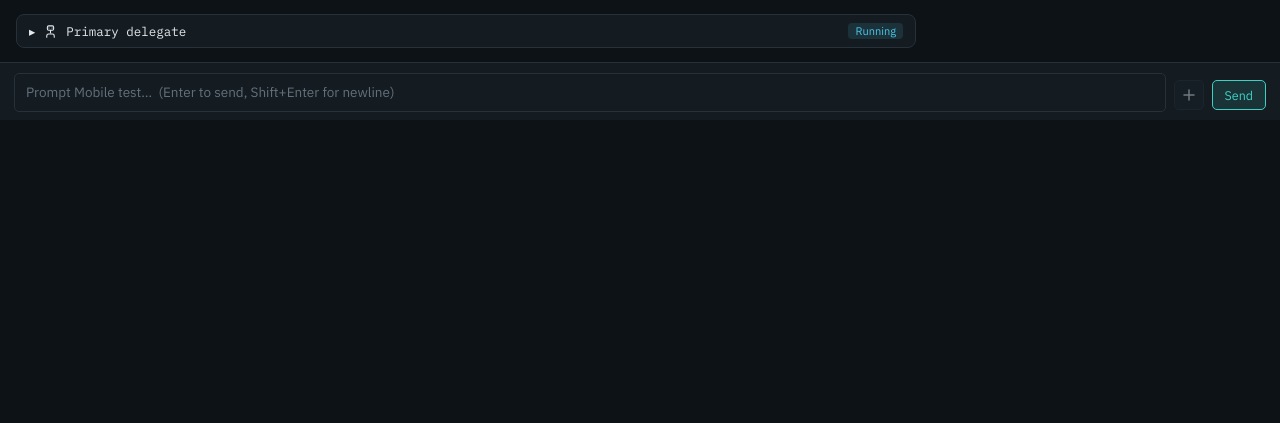
TranscriptPane sub-agent groups › renders nested delegated tool output as nested accessible groups
The image size is (1280, 423).
Click the text "Primary delegate" at (126,31), box [66,23,186,39]
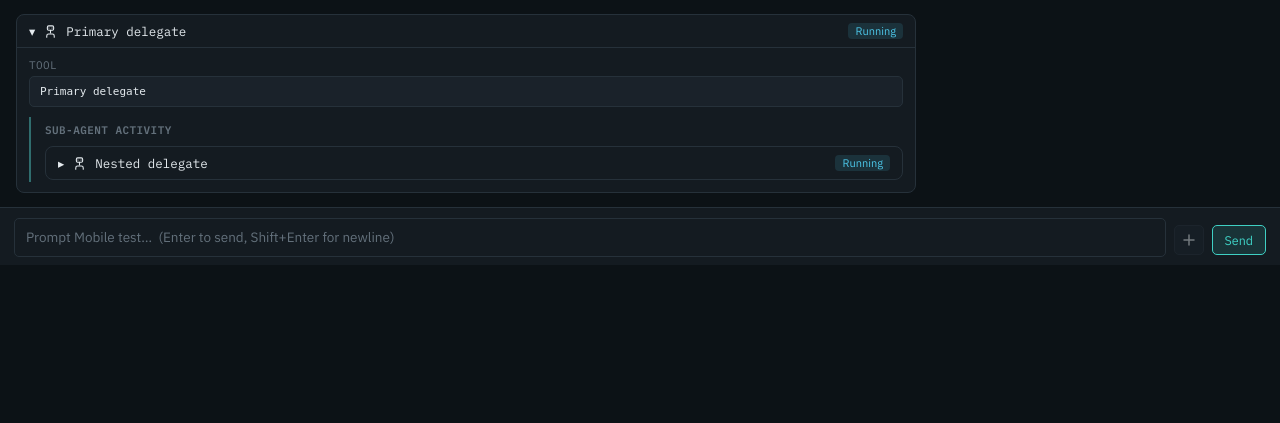
Click the text "Nested delegate" at (152,163), box [95,155,208,171]
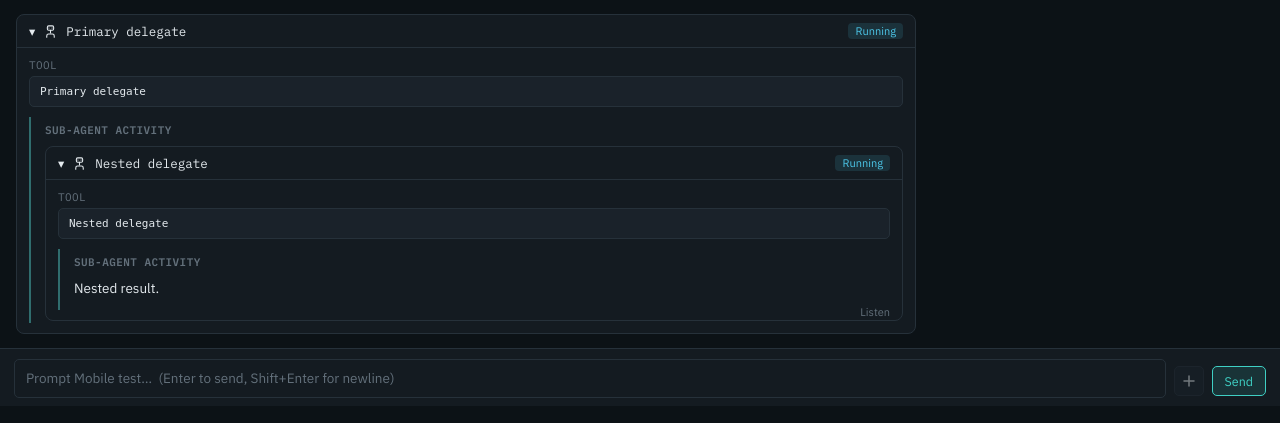
Expected: the text "Nested result." is shown, [74,279,159,297]
